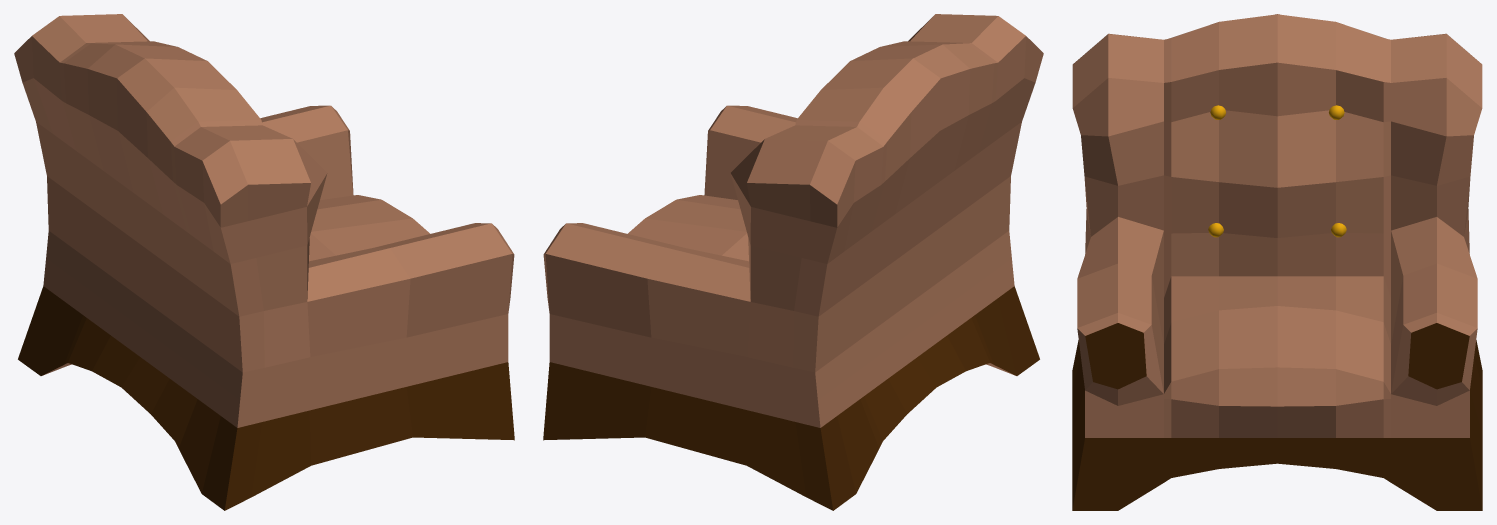
File: Couchy_Buttons_Model.fbx
3 views of the same model, side by side, from view 1: azimuth 30°, elevation 25°; view 2: azimuth 150°, elevation 25°; view 3: azimuth 270°, elevation 25° (orthographic).
Visible parts, largest first — view 1: CouchSmall; view 2: CouchSmall; view 3: CouchSmall, CouchSmallButtons.
Part boxes in pixels (x1=…): CouchSmall: x1=14, y1=14, x2=514, y2=510; CouchSmall: x1=543, y1=14, x2=1043, y2=510; CouchSmall: x1=1072, y1=14, x2=1482, y2=510; CouchSmallButtons: x1=1208, y1=105, x2=1346, y2=237.
Bounding box in the file's own units: 212 × 210 × 183.
